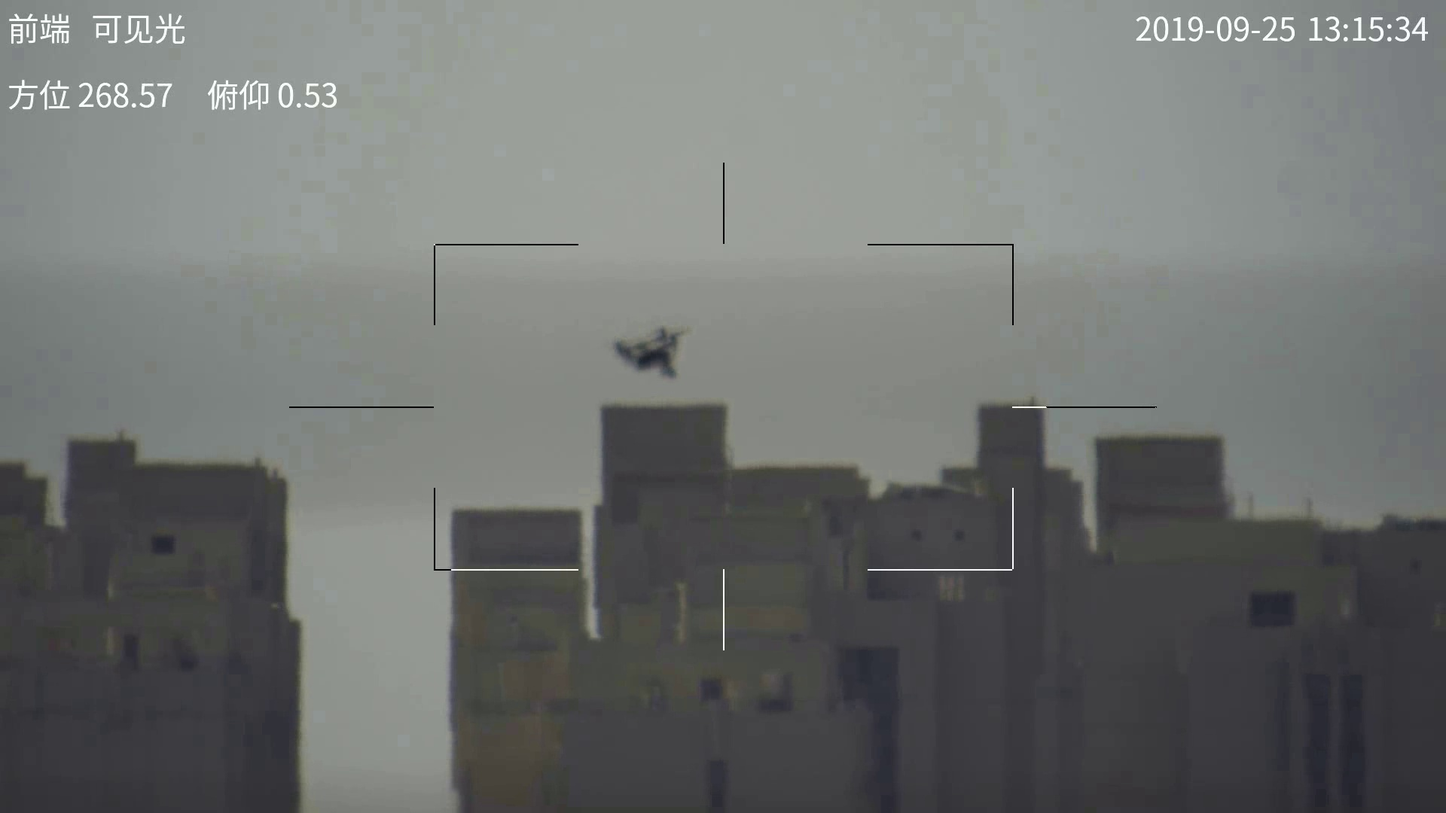drone_other: (592, 325, 670, 379)
